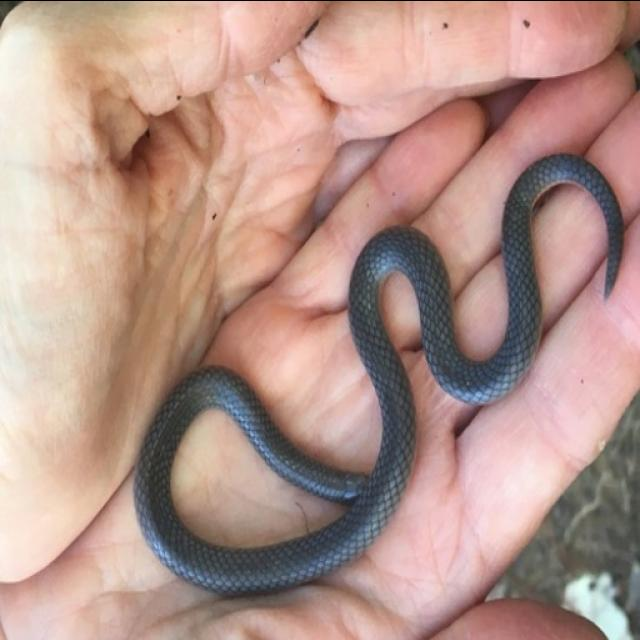snake: (112, 96, 624, 610)
